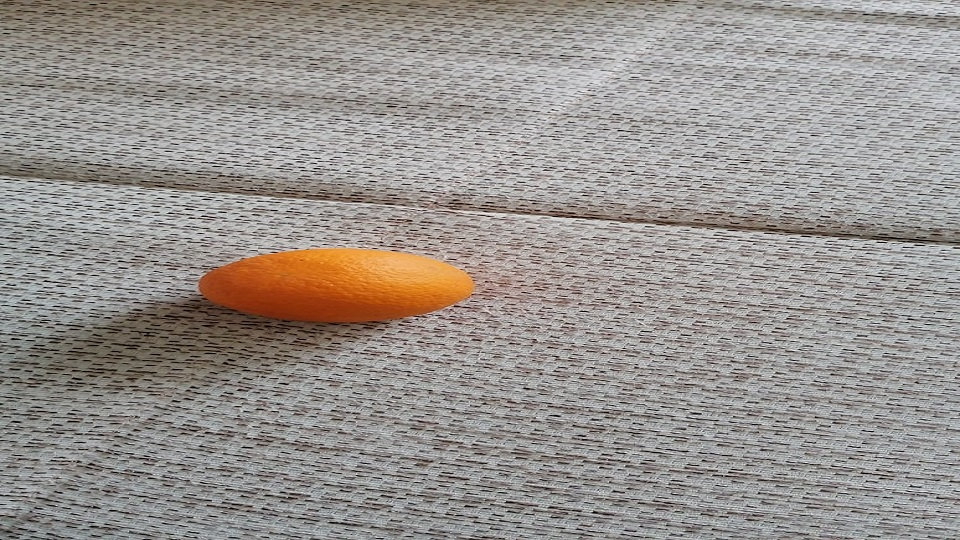portakal: (198, 248, 475, 322)
